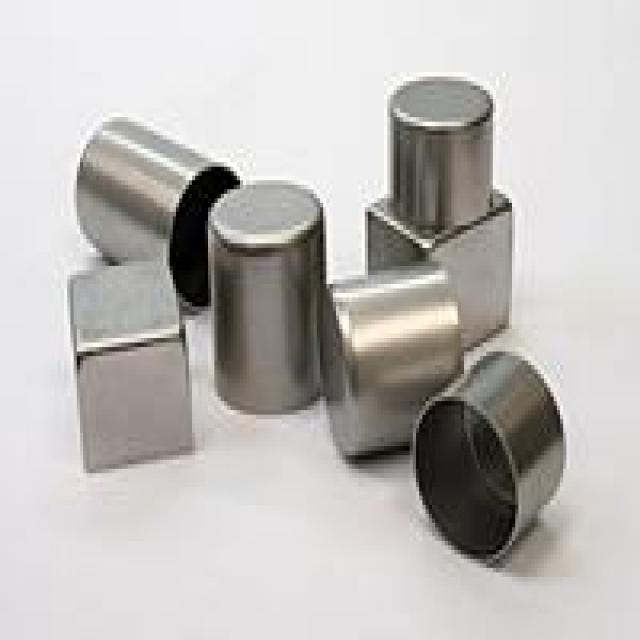metel: (75, 123, 235, 303), (208, 188, 333, 400), (424, 370, 555, 560), (70, 272, 204, 457), (329, 276, 467, 447), (368, 200, 512, 344), (388, 80, 500, 224)
